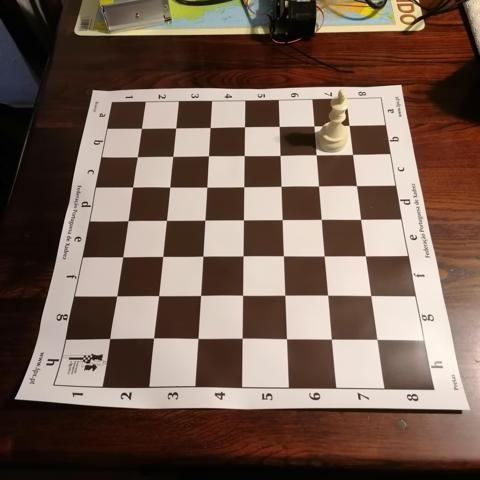xcorner: (343, 117, 359, 133), (272, 118, 288, 134), (237, 119, 253, 135), (203, 119, 219, 135), (168, 120, 184, 136), (134, 121, 150, 137), (347, 145, 363, 161), (310, 146, 326, 162), (273, 146, 289, 162), (237, 147, 253, 163), (201, 147, 217, 163), (165, 148, 181, 164), (351, 176, 367, 192), (274, 177, 290, 193), (236, 177, 252, 193), (161, 178, 177, 194), (315, 210, 331, 226), (275, 210, 291, 226), (196, 211, 212, 227), (157, 211, 173, 227), (119, 211, 135, 227), (360, 246, 376, 262), (194, 247, 210, 263), (153, 247, 169, 263), (113, 247, 129, 263), (365, 286, 381, 302), (277, 286, 293, 302), (234, 286, 250, 302), (191, 286, 207, 302), (148, 286, 164, 302), (324, 330, 340, 346), (278, 330, 294, 346), (188, 329, 204, 345), (143, 329, 159, 345), (99, 329, 115, 345), (308, 118, 324, 133), (130, 149, 146, 164), (312, 177, 328, 192), (199, 178, 214, 194), (125, 179, 140, 195), (355, 210, 371, 225), (235, 211, 251, 226), (318, 246, 333, 262), (276, 247, 292, 262), (321, 286, 336, 302), (107, 286, 122, 302), (370, 331, 386, 346), (233, 330, 249, 345), (235, 247, 250, 262)
